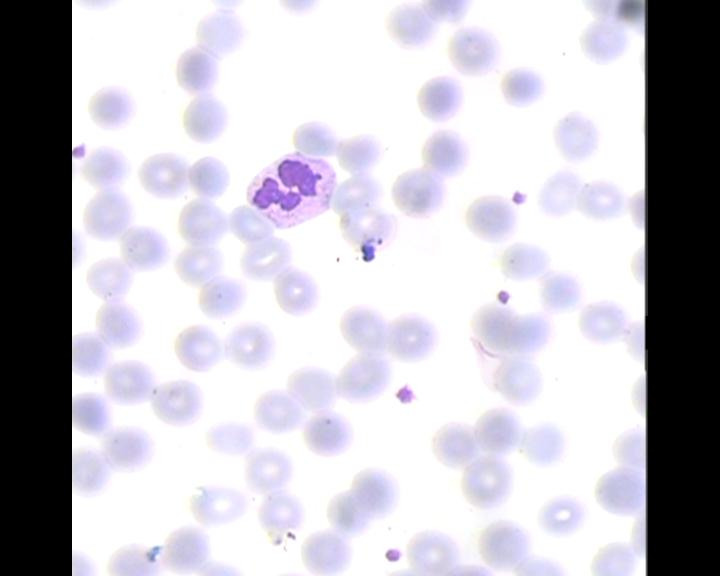neut: (244, 151, 337, 229)
